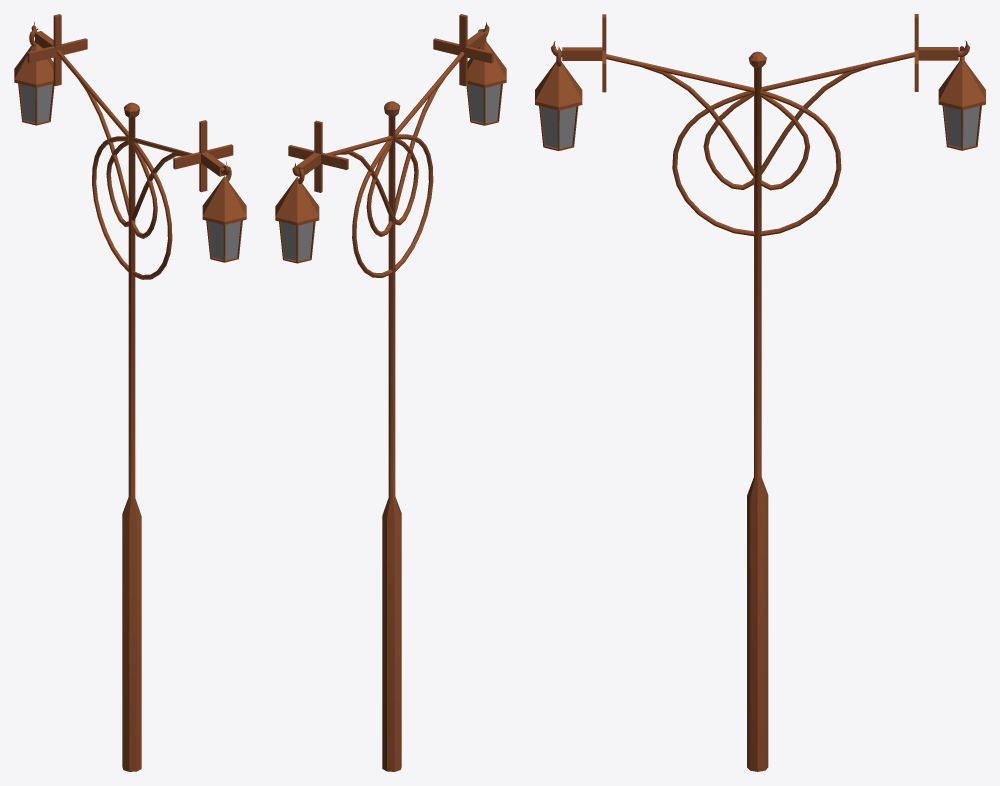
File: ludeng2.FBX
The picture shows the model from 3 angles, left to right: view 1: azimuth 30°, elevation 25°; view 2: azimuth 150°, elevation 25°; view 3: azimuth 270°, elevation 25°; orthographic projection. The views are drawn at different scales.
Visible parts, largest first — view 1: y523, Acc_Light006, Acc_Light007, y522, 对象007, 对象006; view 2: y523, Acc_Light007, Acc_Light006, y522, 对象007, 对象006; view 3: y523, y522, Acc_Light007, Acc_Light006, 对象006, 对象007.
Boxes of the visible parts, x1=… form: y523: x1=92, y1=102, x2=192, y2=771; Acc_Light006: x1=173, y1=120, x2=246, y2=262; Acc_Light007: x1=14, y1=14, x2=87, y2=125; y522: x1=56, y1=50, x2=172, y2=279; 对象007: x1=20, y1=84, x2=52, y2=122; 对象006: x1=208, y1=221, x2=240, y2=259; y523: x1=352, y1=51, x2=464, y2=771; Acc_Light007: x1=275, y1=120, x2=348, y2=263; Acc_Light006: x1=433, y1=14, x2=506, y2=125; y522: x1=326, y1=134, x2=433, y2=271; 对象007: x1=281, y1=222, x2=313, y2=260; 对象006: x1=468, y1=84, x2=500, y2=122; y523: x1=606, y1=51, x2=841, y2=771; y522: x1=672, y1=52, x2=914, y2=236; Acc_Light007: x1=914, y1=14, x2=985, y2=150; Acc_Light006: x1=535, y1=14, x2=606, y2=150; 对象006: x1=541, y1=106, x2=576, y2=148; 对象007: x1=944, y1=106, x2=979, y2=148.
Bounding box in the file's own units: 0.7404 × 8.39 × 4.56.
